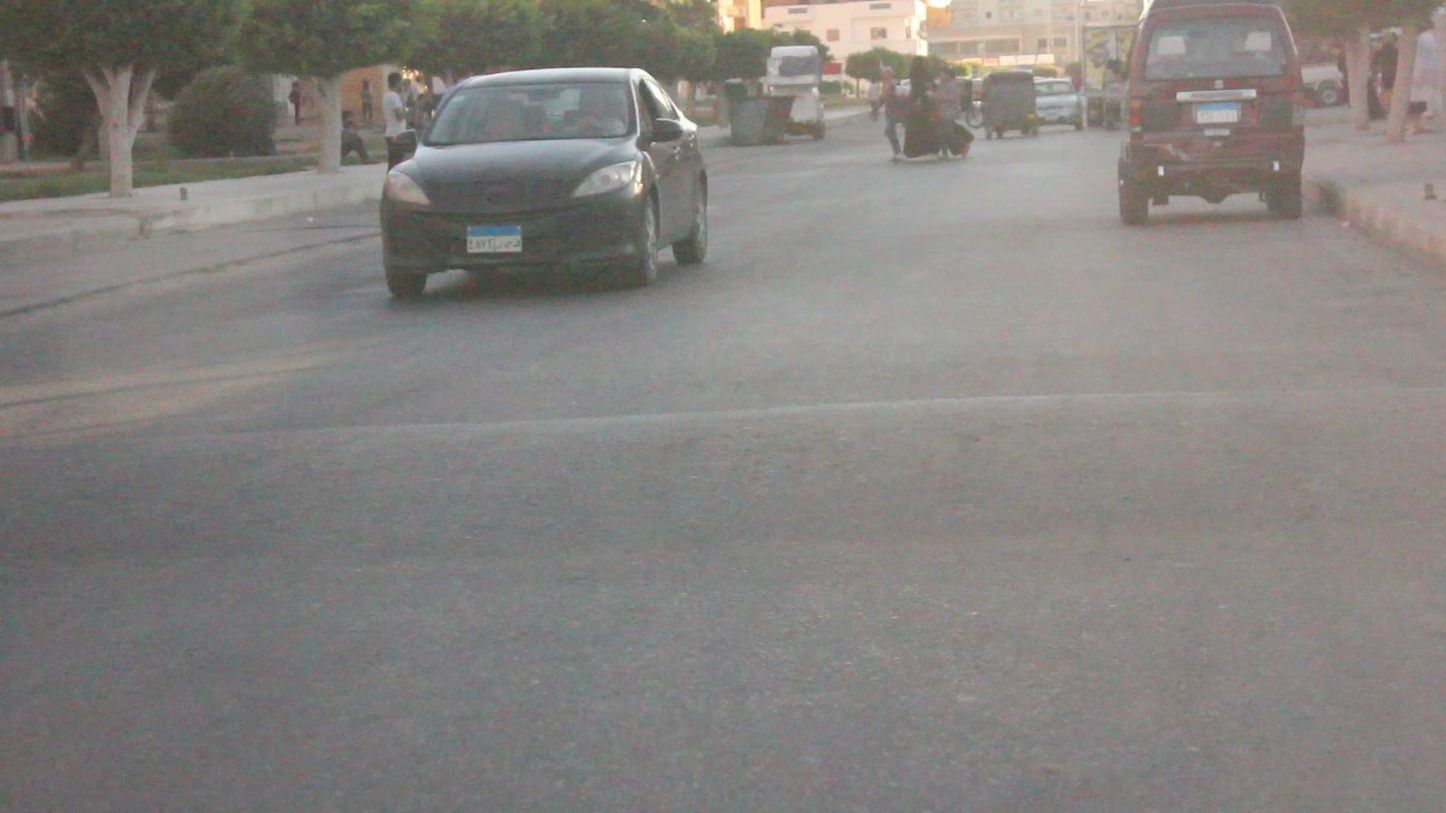Bump: (0, 390, 1446, 529)
